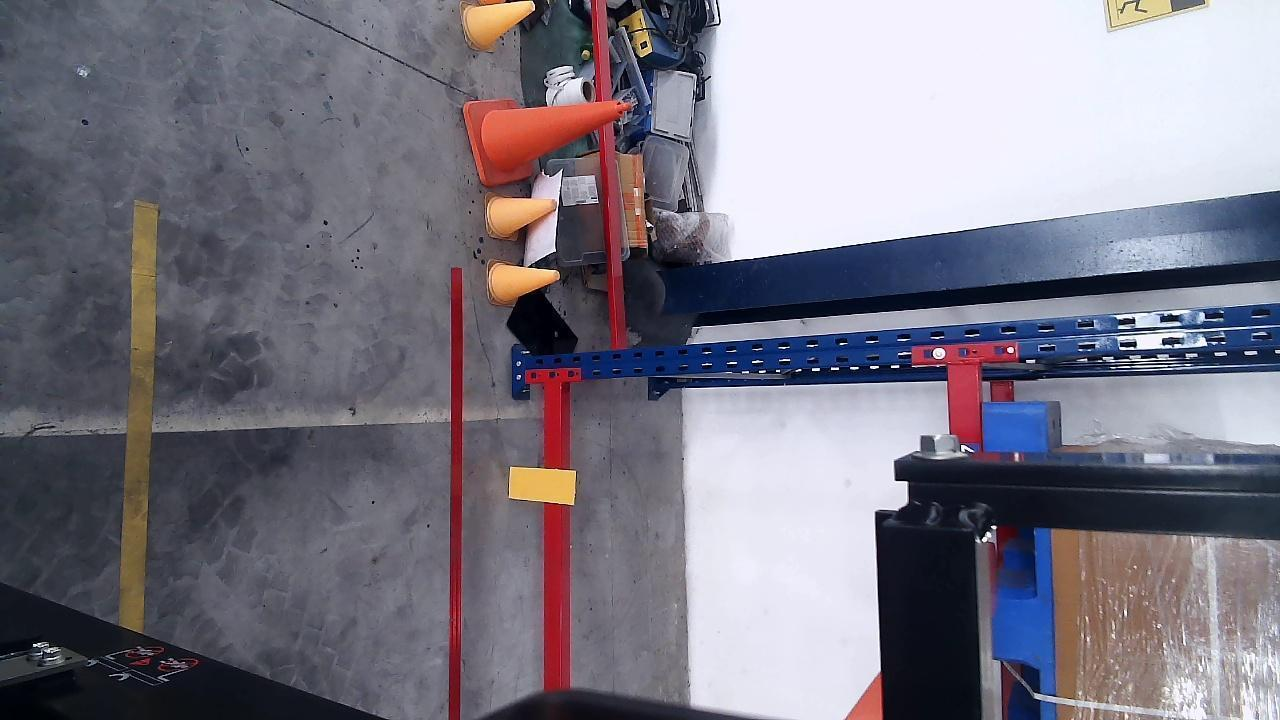red_line: (449, 264, 465, 718)
yellow_line: (122, 200, 159, 632)
